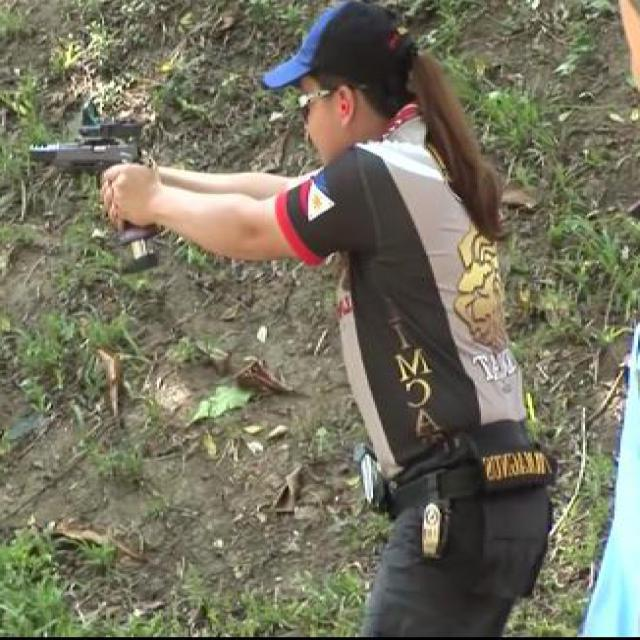Gun: (31, 121, 169, 269)
